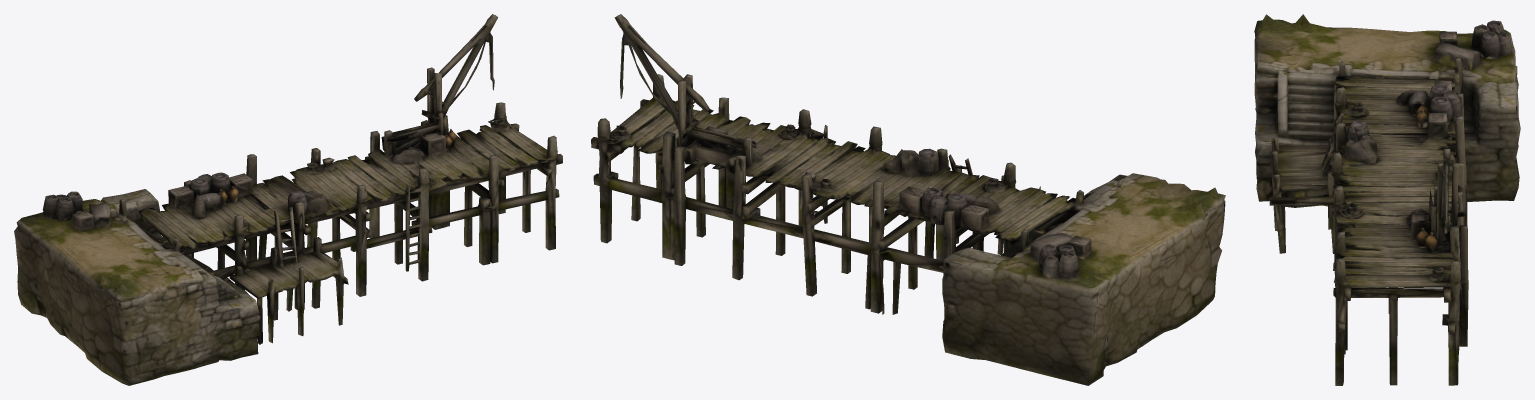
The model's file is NewDock.glb.
3 renders of one model, left to right at view 1: azimuth 30°, elevation 25°; view 2: azimuth 150°, elevation 25°; view 3: azimuth 270°, elevation 25°, orthographic. The views are drawn at different scales.
Visible parts, largest first — view 1: low; view 2: low; view 3: low.
Boxes of the visible parts, x1,y1,x2,y2 form: low: (14,14,562,385); low: (591,14,1225,385); low: (1254,14,1520,385).
Bounding box in the file's own units: 10.82 × 4.32 × 4.54.
1 material, 1 textured.
